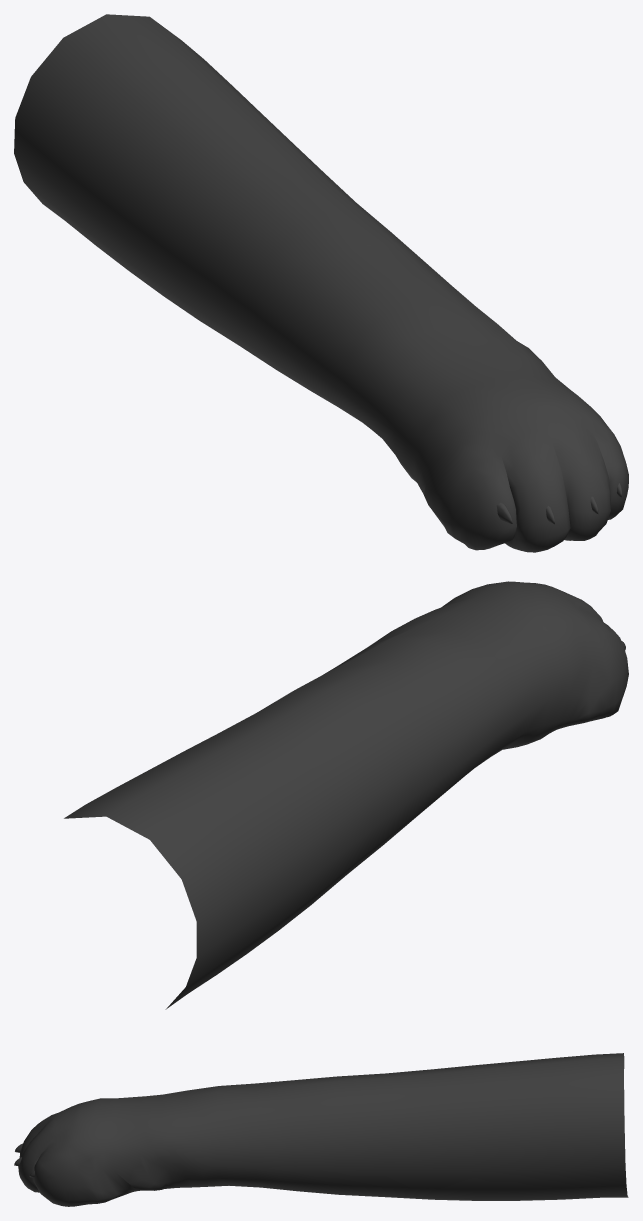
Rendered from paw_R.glb.
The picture shows the model from 3 angles, top to bottom: view 1: azimuth 30°, elevation 25°; view 2: azimuth 150°, elevation 25°; view 3: azimuth 270°, elevation 25°; orthographic projection. The views are drawn at different scales.
Visible parts, largest first — view 1: geometry_0; view 2: geometry_0; view 3: geometry_0.
Part boxes in pixels (left/top/right/bottom): geometry_0: left=14, top=14, right=628, bottom=552; geometry_0: left=64, top=581, right=628, bottom=1009; geometry_0: left=14, top=1053, right=628, bottom=1206.
Bounding box in the file's own units: 0.1267 × 0.1394 × 0.5736.
Materials: 1 (1 with a texture image).
